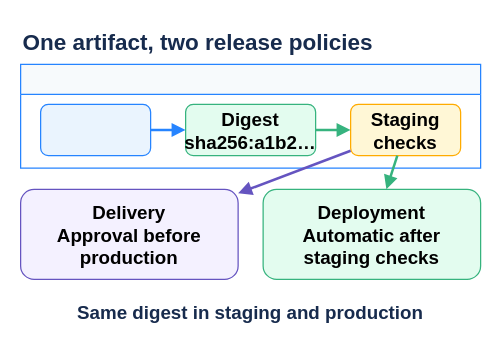
Image size: 504x343. Some labels were removed from this diagram. Each missing label, with the box of its shape:
Build once: (39, 103, 151, 156)
Verified artifact: (19, 63, 481, 168)
